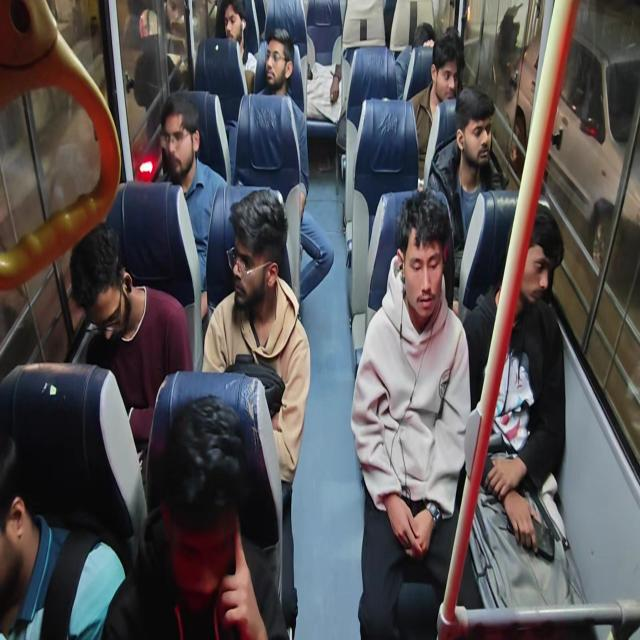person: (160, 418, 304, 640), (34, 222, 160, 403), (220, 164, 306, 346), (390, 202, 485, 347), (0, 443, 62, 640), (145, 72, 199, 211), (440, 72, 500, 188), (501, 225, 557, 328), (298, 49, 339, 145), (212, 3, 255, 72), (260, 29, 298, 104), (406, 12, 442, 74), (429, 57, 474, 92)
